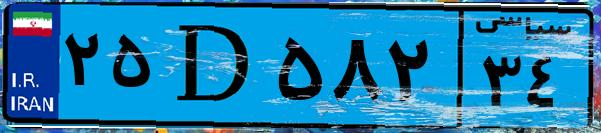2: (385, 28, 445, 110), (57, 26, 110, 100)
3: (475, 38, 525, 113)
4: (525, 38, 570, 115)
5: (270, 28, 330, 110), (110, 28, 158, 98)
8: (330, 28, 385, 110)
D: (158, 12, 270, 120)
